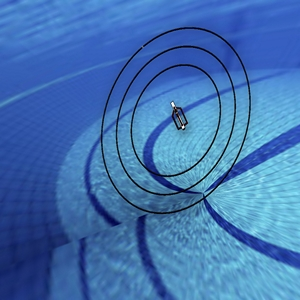circle: (92, 25, 258, 220)
submarine: (158, 94, 192, 138)
